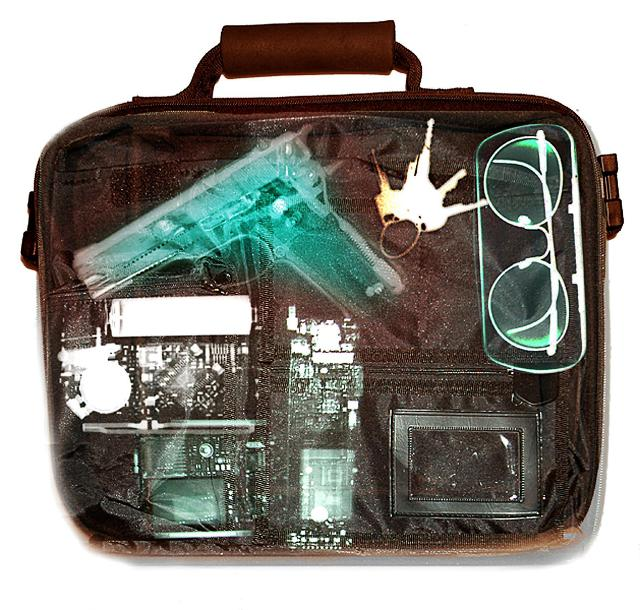Gun: (63, 130, 409, 328)
